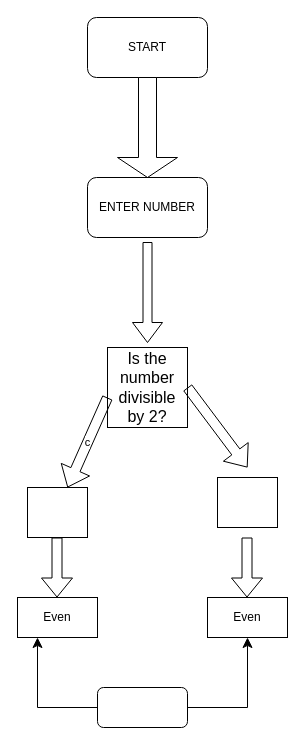
Some shapes in this 305 by 745 pixel diagram are drawn without their labels. The centre of each missing label's shape, as x and y in pixels:
"END" goes at [142,707].
"NO" goes at [247,502].
"Yes" goes at [57,512].
